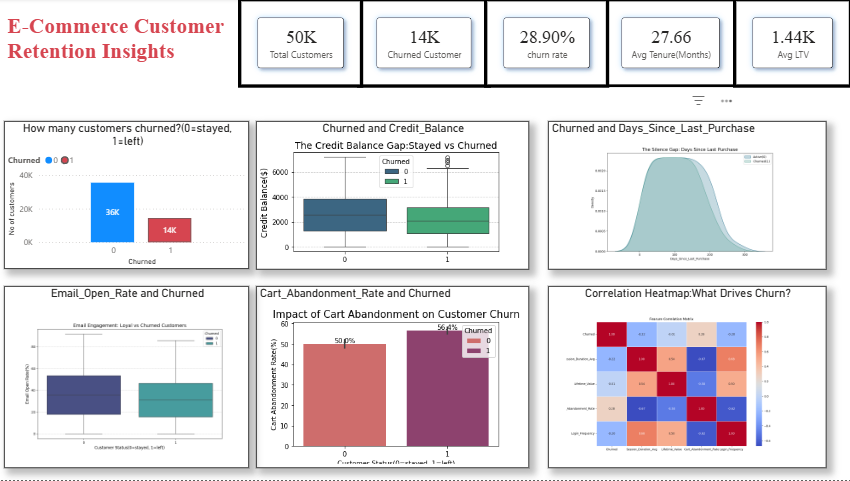

Layout of this report page (visuals, bound fields, positions):
{"tool":"powerbi","page":{"name":"Page 1","canvas":[1280,720],"ordinal":0},"visuals":[{"type":"cardVisual","fields":{"Data":["ecommerce_customer_churn_dataset.Churned Customer"]},"box":[539.3,0,200.2,134.4],"z":0},{"type":"cardVisual","fields":{"Data":["ecommerce_customer_churn_dataset.Total Customers"]},"box":[361.4,0,187.1,134.3],"z":1000},{"type":"cardVisual","fields":{"Data":["ecommerce_customer_churn_dataset.Avg Tenure(Months)"]},"box":[905.7,0,205.7,134.3],"z":2000},{"type":"cardVisual","fields":{"Data":["ecommerce_customer_churn_dataset.churn rate"]},"box":[728.6,0,187.1,134.3],"z":3000},{"type":"cardVisual","fields":{"Data":["ecommerce_customer_churn_dataset.Avg LTV"]},"box":[1101.4,0,178.6,134.3],"z":4000},{"type":"columnChart","title":"How many customers churned?(0=stayed, 1=left)","fields":{"Category":["ecommerce_customer_churn_dataset.Churned"],"Series":["ecommerce_customer_churn_dataset.Churned"],"Y":["ecommerce_customer_churn_dataset.Total Customers"]},"box":[12,183.7,366,221.1],"z":5000},{"type":"pythonVisual","fields":{"Values":["ecommerce_customer_churn_dataset.Churned","ecommerce_customer_churn_dataset.Credit_Balance"]},"box":[388.9,183.2,408.2,221.8],"z":6000},{"type":"pythonVisual","fields":{"Values":["ecommerce_customer_churn_dataset.Churned","ecommerce_customer_churn_dataset.Days_Since_Last_Purchase"]},"box":[824.5,183.2,416.2,221.8],"z":7000},{"type":"pythonVisual","fields":{"Values":["ecommerce_customer_churn_dataset.Cart_Abandonment_Rate","ecommerce_customer_churn_dataset.Churned"]},"box":[388.9,430.7,408.2,271.6],"z":8000},{"type":"pythonVisual","fields":{"Values":["ecommerce_customer_churn_dataset.Email_Open_Rate","ecommerce_customer_churn_dataset.Churned"]},"box":[11.2,430.7,366.4,271.6],"z":9000},{"type":"pythonVisual","title":"Correlation Heatmap:What Drives Churn?","fields":{"Values":["ecommerce_customer_churn_dataset.Churned","ecommerce_customer_churn_dataset.Session_Duration_Avg","ecommerce_customer_churn_dataset.Lifetime_Value","ecommerce_customer_churn_dataset.Cart_Abandonment_Rate","ecommerce_customer_churn_dataset.Login_Frequency"]},"box":[824.5,430.7,416.2,271.6],"z":10000},{"type":"textbox","box":[12,17.9,334.6,116.5],"z":11000}]}

Visuals, with their boxes in screenshot pixels (x1, y1, x2, y2), scaled from the page's 1280x720 canvas onto the 850x481 screenshot:
cardVisual - ecommerce_customer_churn_dataset.Churned Customer: box(358, 0, 491, 90)
cardVisual - ecommerce_customer_churn_dataset.Total Customers: box(240, 0, 364, 90)
cardVisual - ecommerce_customer_churn_dataset.Avg Tenure(Months): box(601, 0, 738, 90)
cardVisual - ecommerce_customer_churn_dataset.churn rate: box(484, 0, 608, 90)
cardVisual - ecommerce_customer_churn_dataset.Avg LTV: box(731, 0, 849, 90)
"How many customers churned?(0=stayed, 1=left)" columnChart: box(8, 123, 251, 270)
pythonVisual - ecommerce_customer_churn_dataset.Churned x ecommerce_customer_churn_dataset.Credit_Balance: box(258, 122, 529, 271)
pythonVisual - ecommerce_customer_churn_dataset.Churned x ecommerce_customer_churn_dataset.Days_Since_Last_Purchase: box(548, 122, 824, 271)
pythonVisual - ecommerce_customer_churn_dataset.Cart_Abandonment_Rate x ecommerce_customer_churn_dataset.Churned: box(258, 288, 529, 469)
pythonVisual - ecommerce_customer_churn_dataset.Email_Open_Rate x ecommerce_customer_churn_dataset.Churned: box(7, 288, 251, 469)
"Correlation Heatmap:What Drives Churn?" pythonVisual: box(548, 288, 824, 469)
textbox: box(8, 12, 230, 90)
